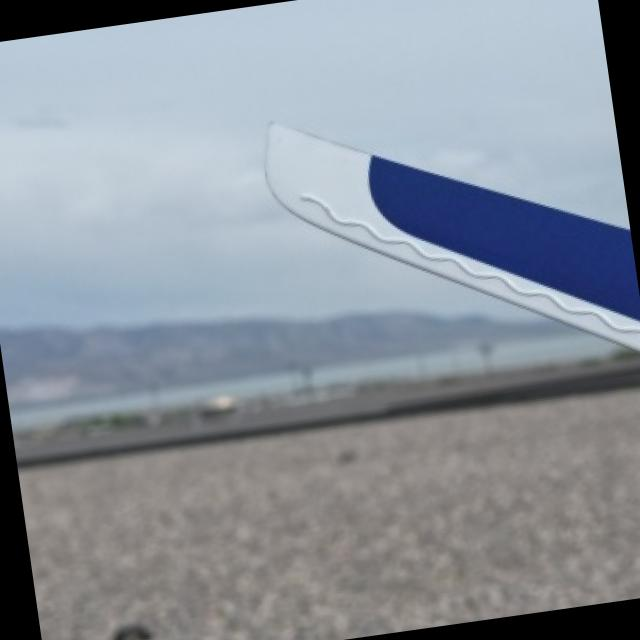healthy: (269, 122, 640, 349)
